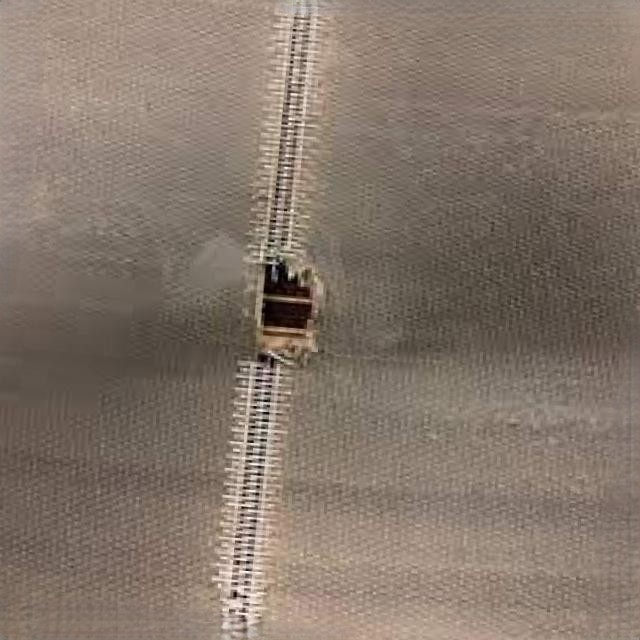Hole: (223, 226, 354, 387)
